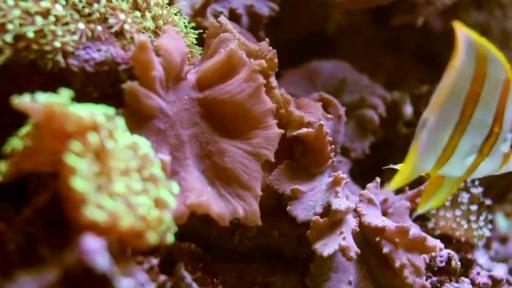Fish: (386, 20, 511, 215)
